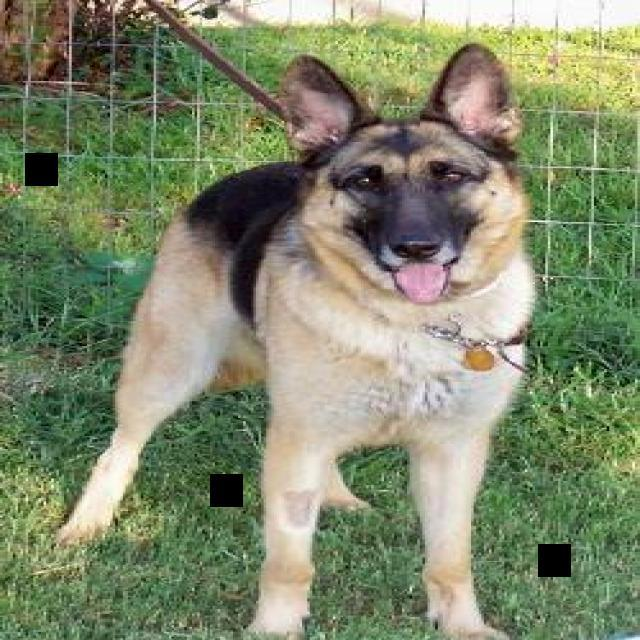adult_dog: (40, 46, 541, 633)
